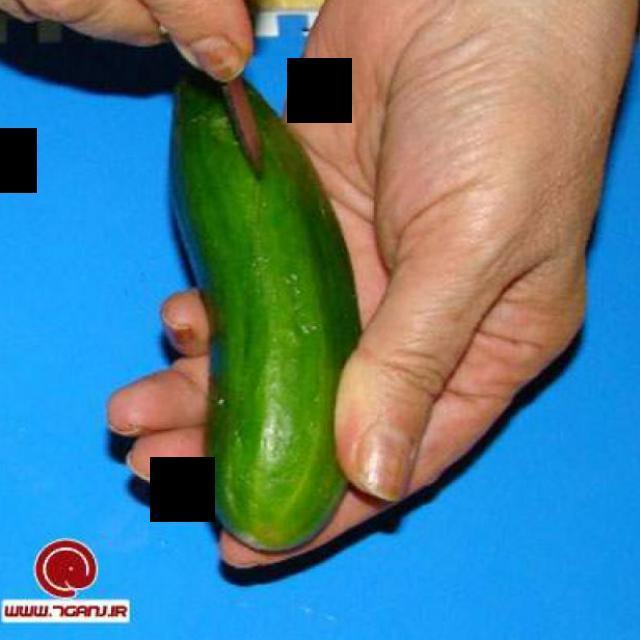cucumber: (166, 77, 364, 559)
